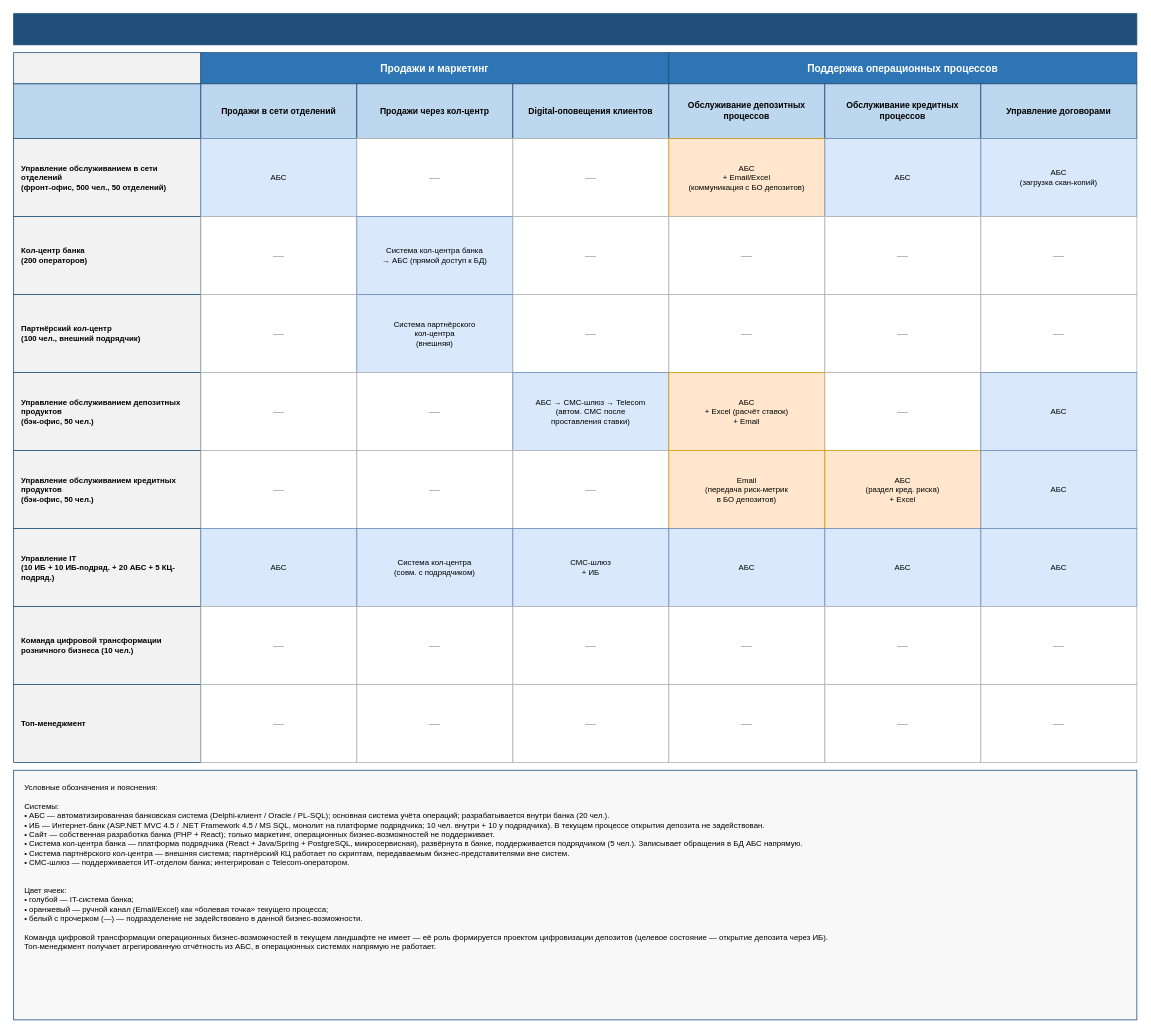
Some shapes in this 1151 by 1034 pixel diagram are drawn without their labels. The centre of each missing label's shape, as x and y in pixels:
"Карта IT-ландшафта банка «Стандарт» — текущее состояние" belongs at (x=575, y=29).
"Подразделение / Бизнес-возможность" belongs at (x=107, y=110).
